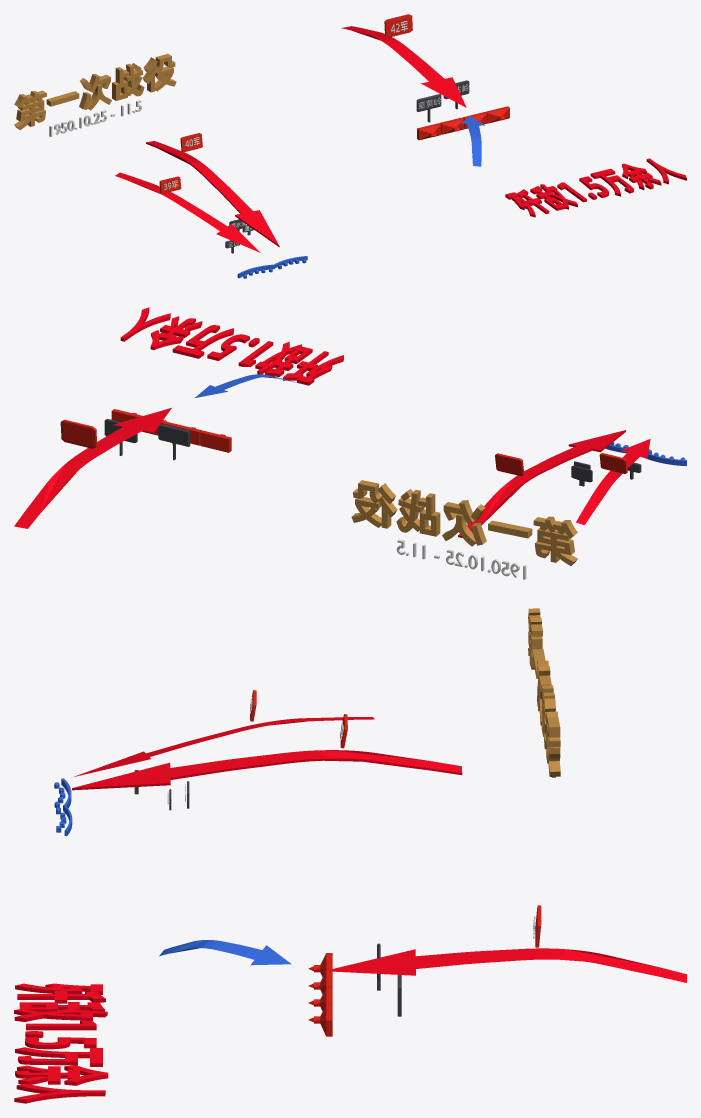
File: 1-animate.glb
The picture shows the model from 3 angles, top to bottom: view 1: azimuth 30°, elevation 25°; view 2: azimuth 150°, elevation 25°; view 3: azimuth 270°, elevation 25°; orthographic projection. The views are drawn at different scales.
Parts seen in each view (by area): view 1: 文本.007, 文本.011, 箭头.011, 箭头.003, 箭头.001, 立方体.007, 文本.010, 箭头.004, 立方体.005; view 2: 文本.007, 文本.011, 箭头.003, 箭头.011, 立方体.007, 箭头.001, 文本.010, 立方体.005, 文本.009, 箭头.004, Cube, Cube.001; view 3: 文本.011, 箭头.011, 箭头.003, 文本.007, 箭头.001, 箭头.004, 立方体.007.
Part boxes in pixels (x1,y1,x2,y2): 文本.007: [14, 53, 176, 130]; 文本.011: [505, 158, 686, 217]; 箭头.011: [146, 141, 279, 247]; 箭头.003: [341, 26, 466, 107]; 箭头.001: [115, 172, 260, 252]; 立方体.007: [417, 106, 509, 140]; 文本.010: [49, 100, 141, 136]; 箭头.004: [461, 116, 484, 166]; 立方体.005: [384, 14, 412, 37]; 文本.007: [351, 480, 577, 565]; 文本.011: [120, 307, 343, 385]; 箭头.003: [14, 407, 171, 528]; 箭头.011: [458, 430, 625, 537]; 立方体.007: [111, 409, 231, 452]; 箭头.001: [576, 439, 650, 524]; 文本.010: [396, 539, 526, 579]; 立方体.005: [60, 419, 97, 448]; 文本.009: [158, 423, 190, 460]; 箭头.004: [194, 374, 295, 398]; Cube: [495, 453, 524, 476]; Cube.001: [599, 453, 627, 473]; 文本.011: [14, 983, 108, 1103]; 箭头.011: [72, 750, 462, 790]; 箭头.003: [324, 948, 686, 982]; 文本.007: [528, 608, 560, 776]; 箭头.001: [74, 717, 374, 776]; 箭头.004: [159, 940, 291, 965]; 立方体.007: [308, 953, 332, 1036].
Size of what is drawn, in the model's own units: 45.2 by 7.27 by 34.26.
